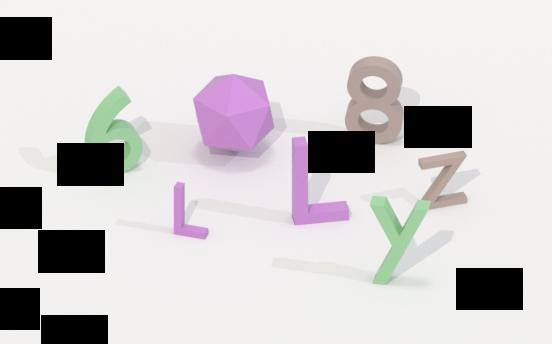6: (82, 79, 147, 180)
8: (340, 51, 409, 148)
Y: (367, 190, 433, 292)
dagiac: (189, 70, 277, 162)
l: (286, 133, 352, 230), (171, 177, 213, 246)
z: (414, 146, 473, 210)
